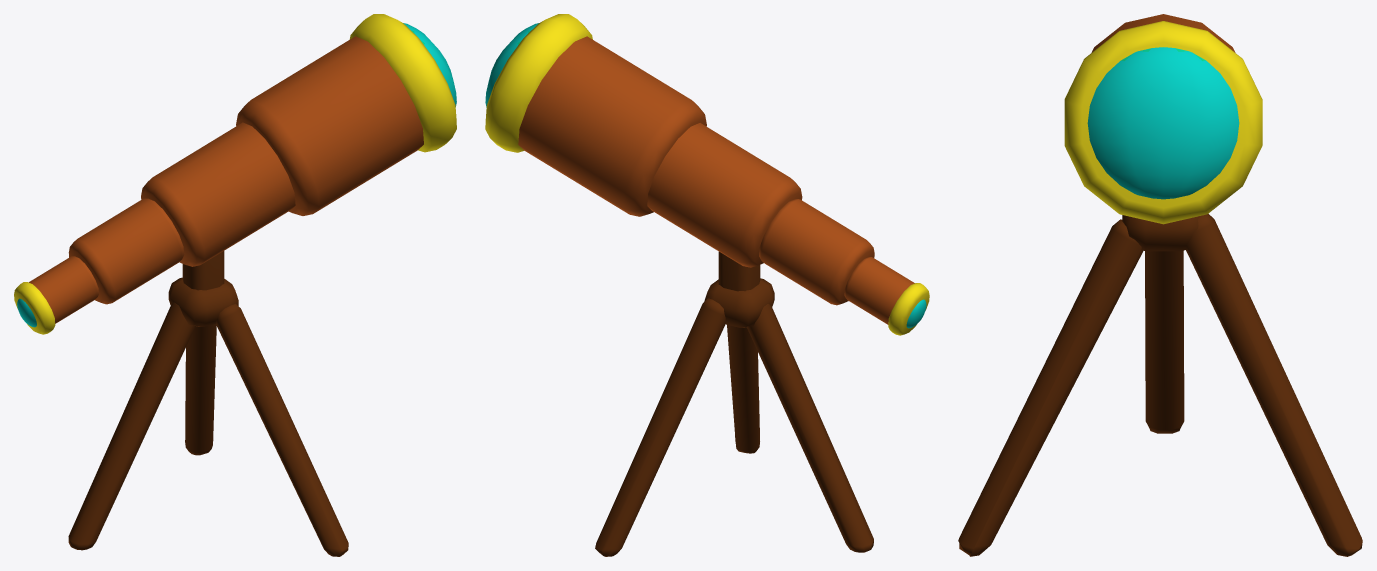
The model's file is Telescope.fbx.
The picture shows the model from 3 angles, left to right: view 1: azimuth 30°, elevation 25°; view 2: azimuth 150°, elevation 25°; view 3: azimuth 270°, elevation 25°; orthographic projection. The views are drawn at different scales.
Visible parts, largest first — view 1: Telescope3, Telescope2; view 2: Telescope3, Telescope2; view 3: Telescope2, Telescope3.
Part boxes in pixels (bbox=[...]): Telescope3: bbox=[14, 14, 456, 334]; Telescope2: bbox=[68, 251, 348, 556]; Telescope3: bbox=[485, 14, 929, 335]; Telescope2: bbox=[595, 252, 873, 556]; Telescope2: bbox=[958, 214, 1362, 556]; Telescope3: bbox=[1064, 14, 1262, 224].
Bounding box in the file's own units: 10.99 × 11.23 × 6.74.
